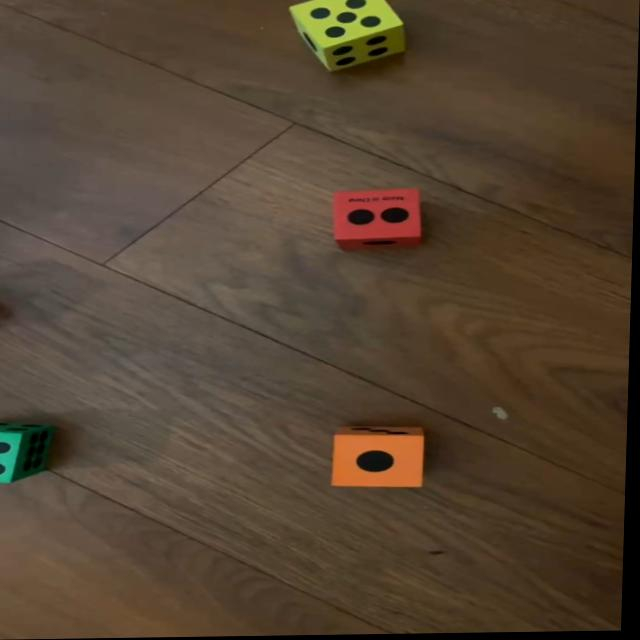cube: (333, 190, 423, 252), (0, 424, 53, 484)
